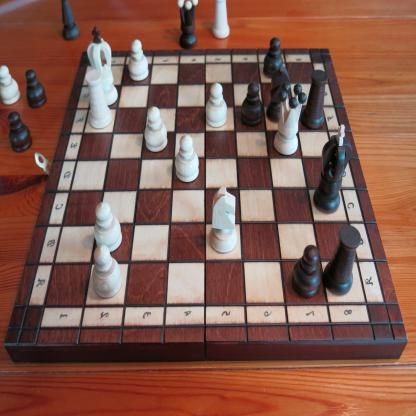black-bishop: (60, 0, 81, 42)
black-king: (313, 124, 352, 214)
black-knight: (266, 64, 291, 124)
black-pawn: (291, 243, 322, 299), (240, 81, 263, 128), (8, 111, 33, 153), (24, 68, 48, 110), (262, 36, 284, 80)
black-queen: (177, 0, 199, 49)
black-rook: (322, 224, 362, 296), (301, 69, 329, 130)
white-king: (87, 26, 118, 106)
white-knight: (209, 186, 238, 253)
white-pawn: (91, 244, 122, 299), (93, 201, 123, 252), (175, 134, 199, 183), (144, 106, 168, 153), (204, 82, 228, 128), (128, 39, 149, 82), (0, 65, 22, 106)
white-queen: (273, 81, 307, 156)
white-rook: (85, 69, 113, 129), (211, 0, 230, 40)
